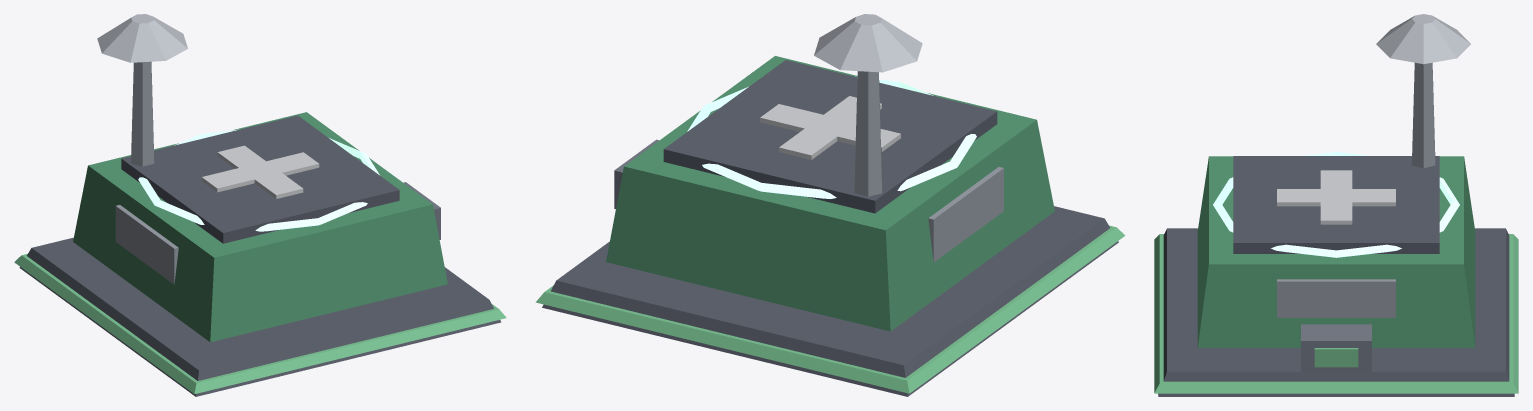
The model's file is repair_bay.glb.
3 renders of one model, left to right at view 1: azimuth 30°, elevation 25°; view 2: azimuth 150°, elevation 25°; view 3: azimuth 270°, elevation 25°, orthographic. The views are drawn at different scales.
Visible parts, largest first — view 1: Body, Beacon, GlowLight; view 2: Body, Beacon, GlowLight; view 3: Body, Beacon, GlowLight.
Boxes of the visible parts, bbox=[...] form: Body: bbox=[14, 61, 506, 396]; Beacon: bbox=[97, 14, 187, 62]; GlowLight: bbox=[138, 129, 379, 231]; Body: bbox=[535, 56, 1125, 396]; Beacon: bbox=[814, 14, 922, 72]; GlowLight: bbox=[687, 76, 976, 198]; Body: bbox=[1154, 62, 1518, 396]; Beacon: bbox=[1376, 14, 1470, 64]; GlowLight: bbox=[1213, 152, 1459, 257].
Size of the model in its own units: 0.948 by 0.74 by 0.92.
